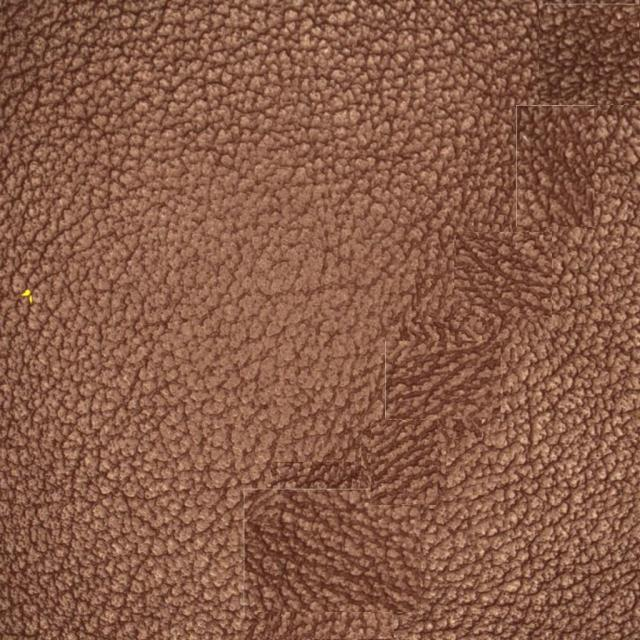Healed Injury: (231, 458, 502, 623), (414, 221, 560, 400)
